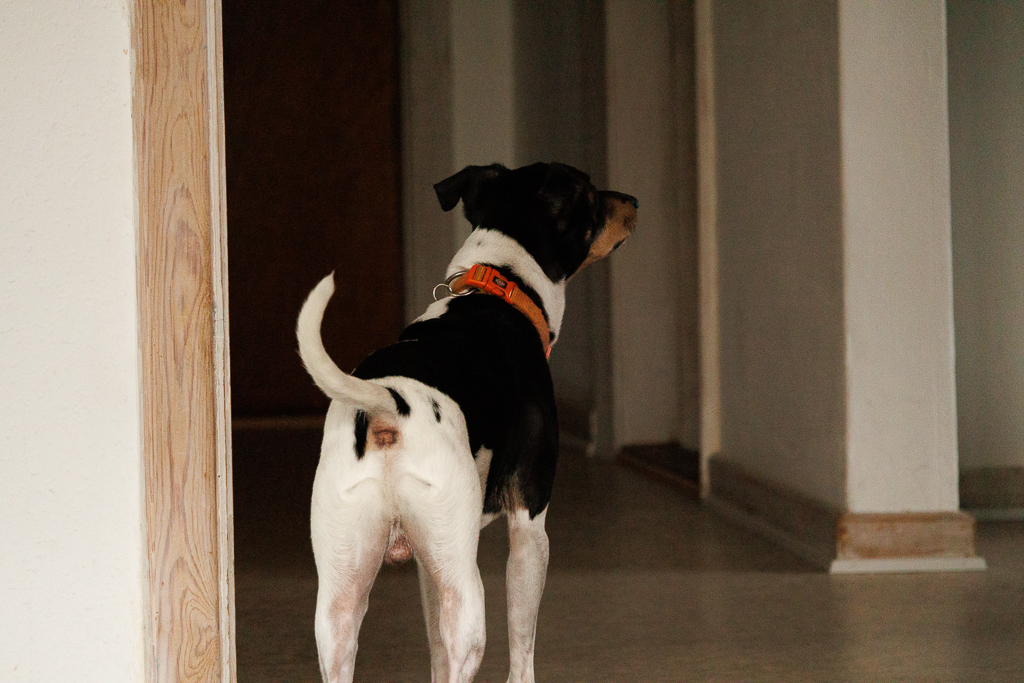Dog: (278, 149, 648, 683)
